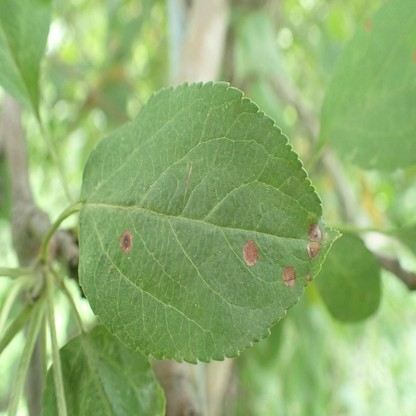frogeye_leaf_spot: (307, 223, 322, 261), (243, 239, 258, 266), (283, 265, 296, 287), (120, 231, 133, 253)
